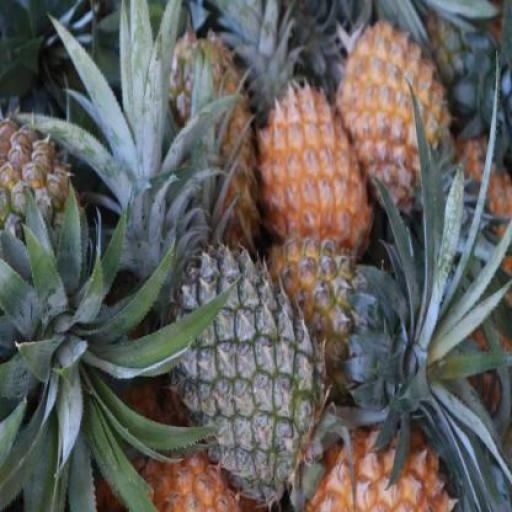------------------------------: (0, 114, 87, 344)
Pineapple - v8 v1: (336, 24, 450, 231), (258, 78, 372, 260)
